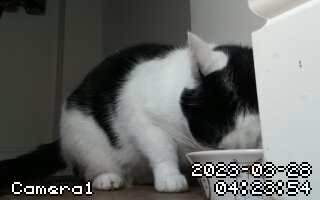bad: (37, 28, 260, 194)
